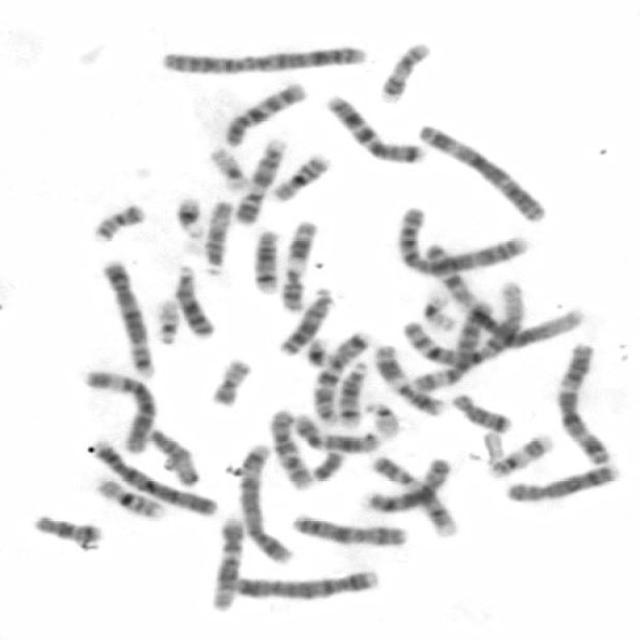A1: (423, 241, 589, 354), (398, 278, 530, 371)
A2: (392, 202, 531, 277), (155, 40, 372, 77)
A3: (413, 118, 548, 223), (551, 339, 615, 467)
B4: (90, 437, 220, 518), (226, 564, 381, 602)
B5: (94, 254, 158, 380), (235, 440, 296, 564)
C10: (217, 77, 310, 148), (263, 403, 315, 491)
C11: (369, 338, 447, 418), (277, 216, 318, 314)
C12: (203, 512, 246, 613), (289, 411, 384, 455)
C6: (404, 298, 498, 392), (78, 365, 159, 454)
C7: (320, 90, 430, 167), (308, 328, 373, 427)
C8: (358, 453, 452, 515), (501, 459, 624, 506)
C9: (366, 454, 462, 540), (230, 133, 289, 226)
D13: (273, 284, 335, 357), (170, 260, 218, 340)
D14: (246, 223, 281, 295), (334, 357, 369, 427)
D15: (143, 425, 201, 487), (198, 197, 236, 276)
E16: (89, 471, 167, 519), (267, 149, 332, 203)
E17: (373, 36, 434, 105), (485, 433, 553, 481)
E18: (447, 390, 514, 435), (28, 509, 105, 544)
F19: (203, 143, 250, 192), (418, 286, 459, 333)
F20: (86, 199, 148, 244), (205, 353, 254, 408)
G21: (168, 191, 206, 239), (301, 333, 335, 369)
G22: (360, 397, 402, 440), (148, 293, 182, 345)
X: (288, 508, 411, 549)
Y: (308, 448, 346, 482)
